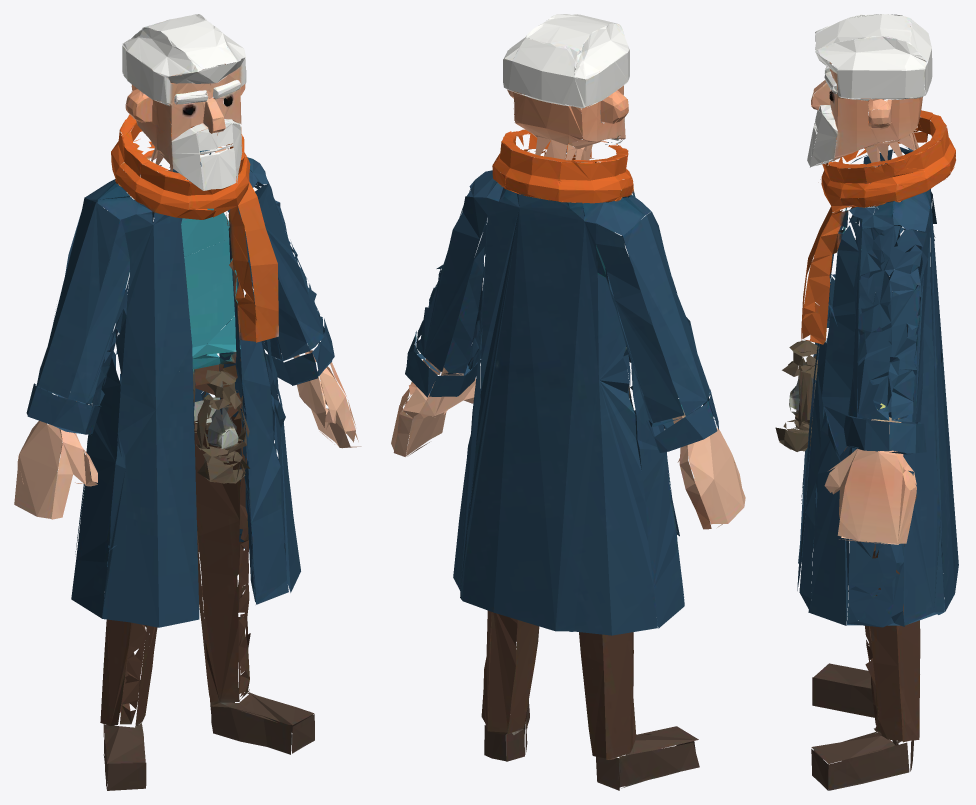
Rendered from habitant.glb.
The picture shows the model from 3 angles, left to right: view 1: azimuth 30°, elevation 25°; view 2: azimuth 150°, elevation 25°; view 3: azimuth 270°, elevation 25°; orthographic projection. The views are drawn at different scales.
Visible parts, largest first — view 1: world; view 2: world; view 3: world.
Boxes of the visible parts, left/top/right/bottom form: world: left=14, top=14, right=361, bottom=790; world: left=391, top=14, right=745, bottom=790; world: left=775, top=14, right=958, bottom=790.
Size of the model in its own units: 0.4786 by 1.01 by 0.2362.
1 material, 1 textured.
